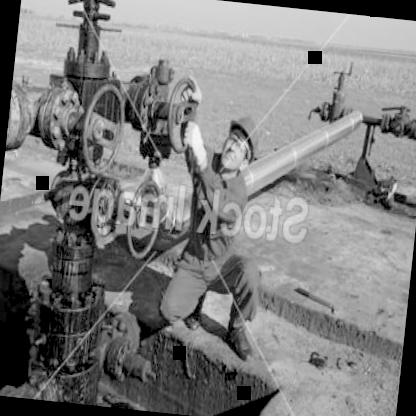helmet: (212, 106, 268, 186)
